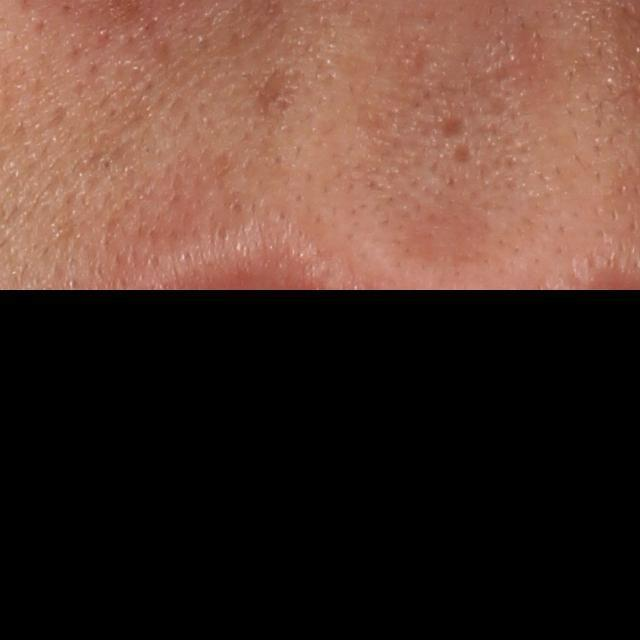atrophic_scar: (252, 57, 297, 111), (446, 141, 478, 173), (440, 116, 473, 145)
